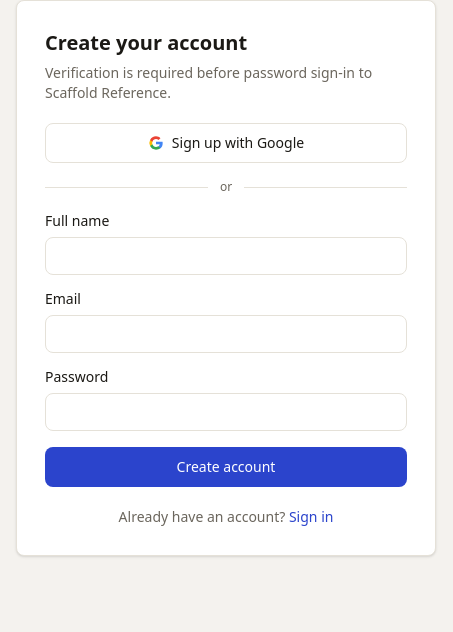
SignUpScreen (AC1) › surfaces a server error without leaving the form
Type "Ada Lovelace" into the field labelled "Full name". click: x=226, y=256
box: [45,237,407,275]
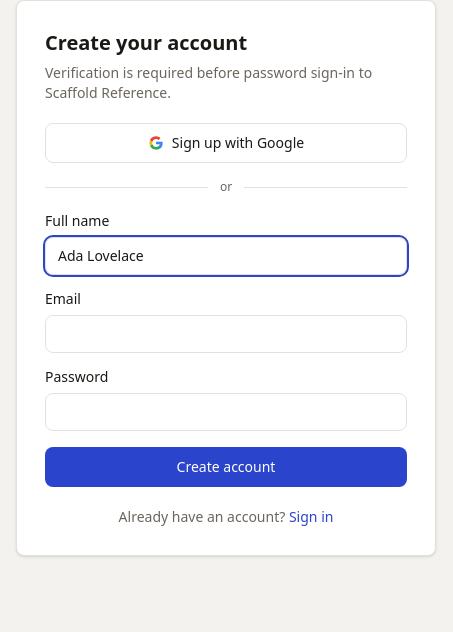
Type "ada@example.com" into the field labelled "Email". click: x=226, y=334
box: [45,315,407,353]
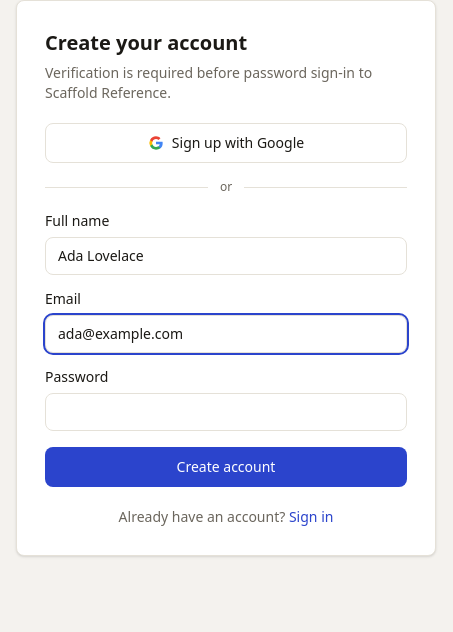
Type "a-strong-passphrase" into the password field labelled "Password". click: x=226, y=412
box: [45,393,407,431]
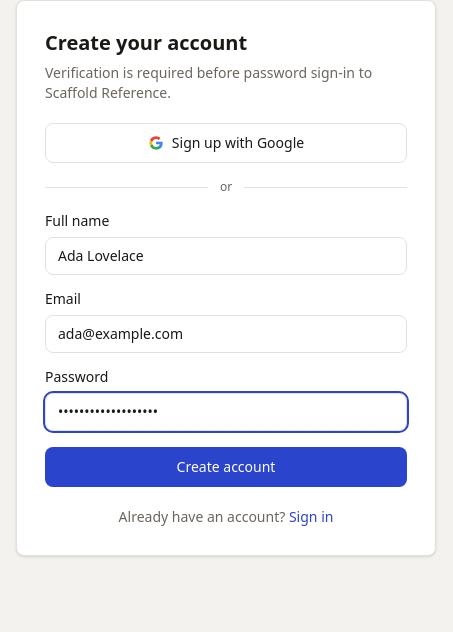
Click the button "Create account". click: x=226, y=467
box: [45,447,407,487]
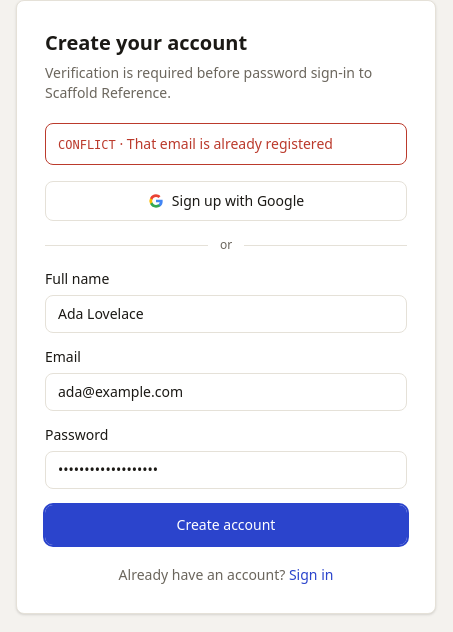
Now the message shows "CONFLICT", box [58,138,116,152]
